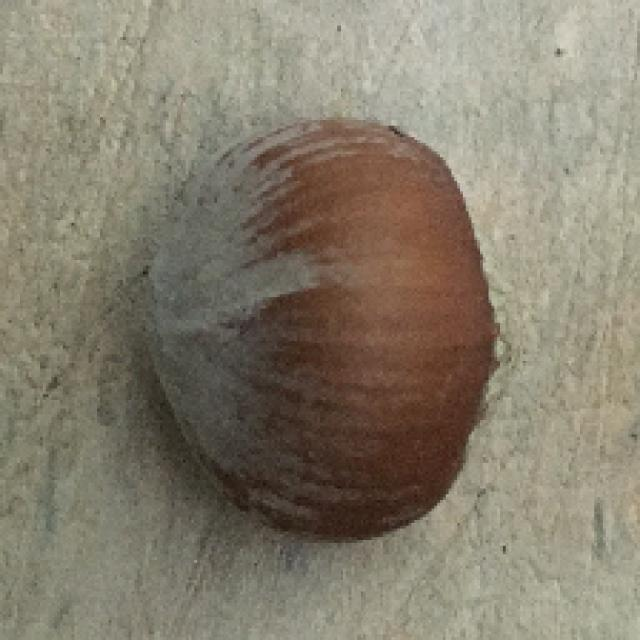qualityHazelnut: (135, 110, 507, 537)
